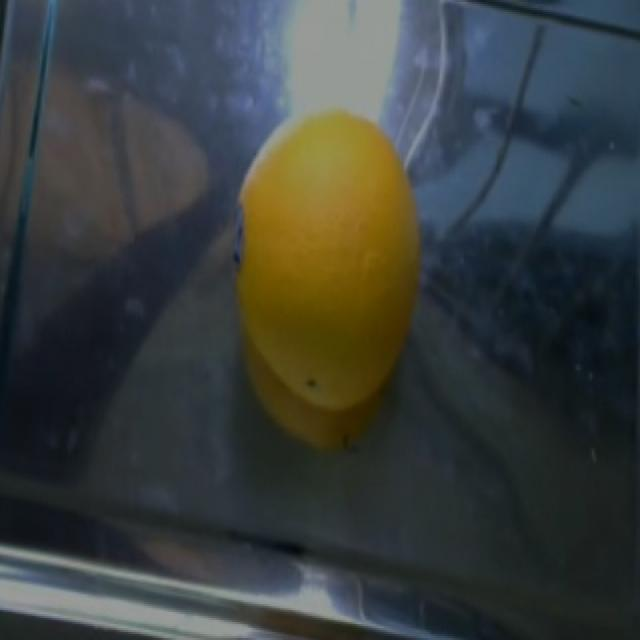Fruit: (224, 85, 439, 477)
